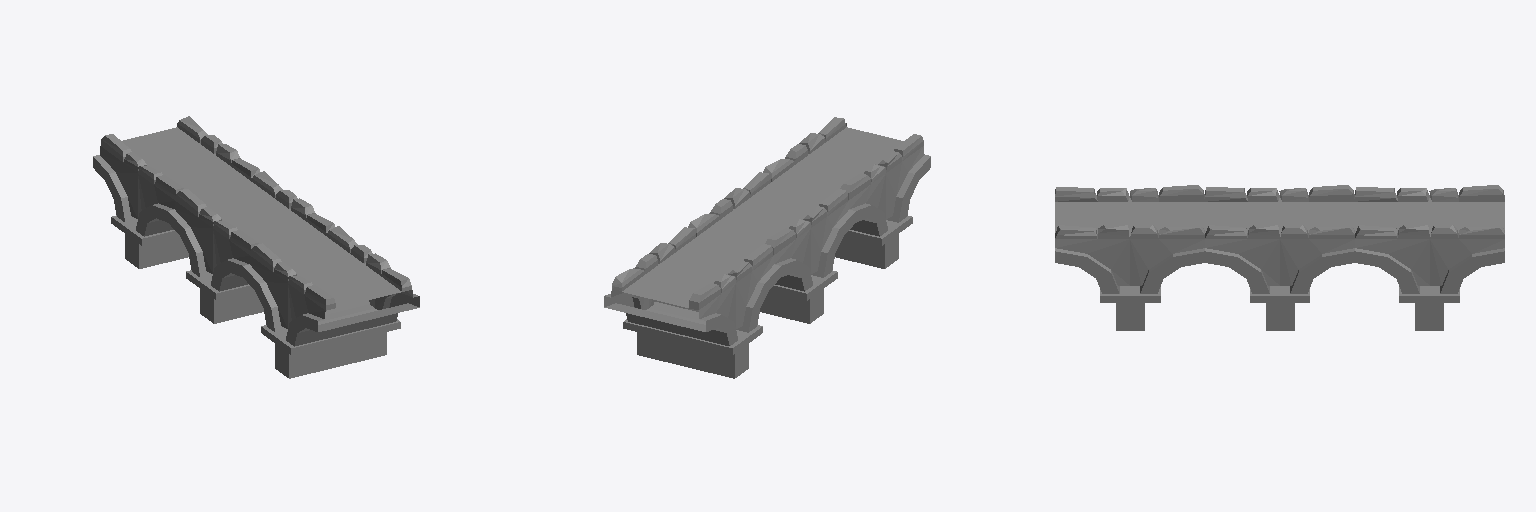
Rendered from bridge.obj.
3 views of the same model, side by side, from view 1: azimuth 30°, elevation 25°; view 2: azimuth 150°, elevation 25°; view 3: azimuth 270°, elevation 25° (orthographic).
Parts seen in each view (by area): view 1: Tube01; view 2: Tube01; view 3: Tube01.
Boxes of the visible parts, box(x1,y1,x2,y2) form: Tube01: box(93, 116, 419, 378); Tube01: box(604, 117, 930, 378); Tube01: box(1055, 185, 1504, 330).
Bounding box in the file's own units: 96.91 × 86.12 × 346.